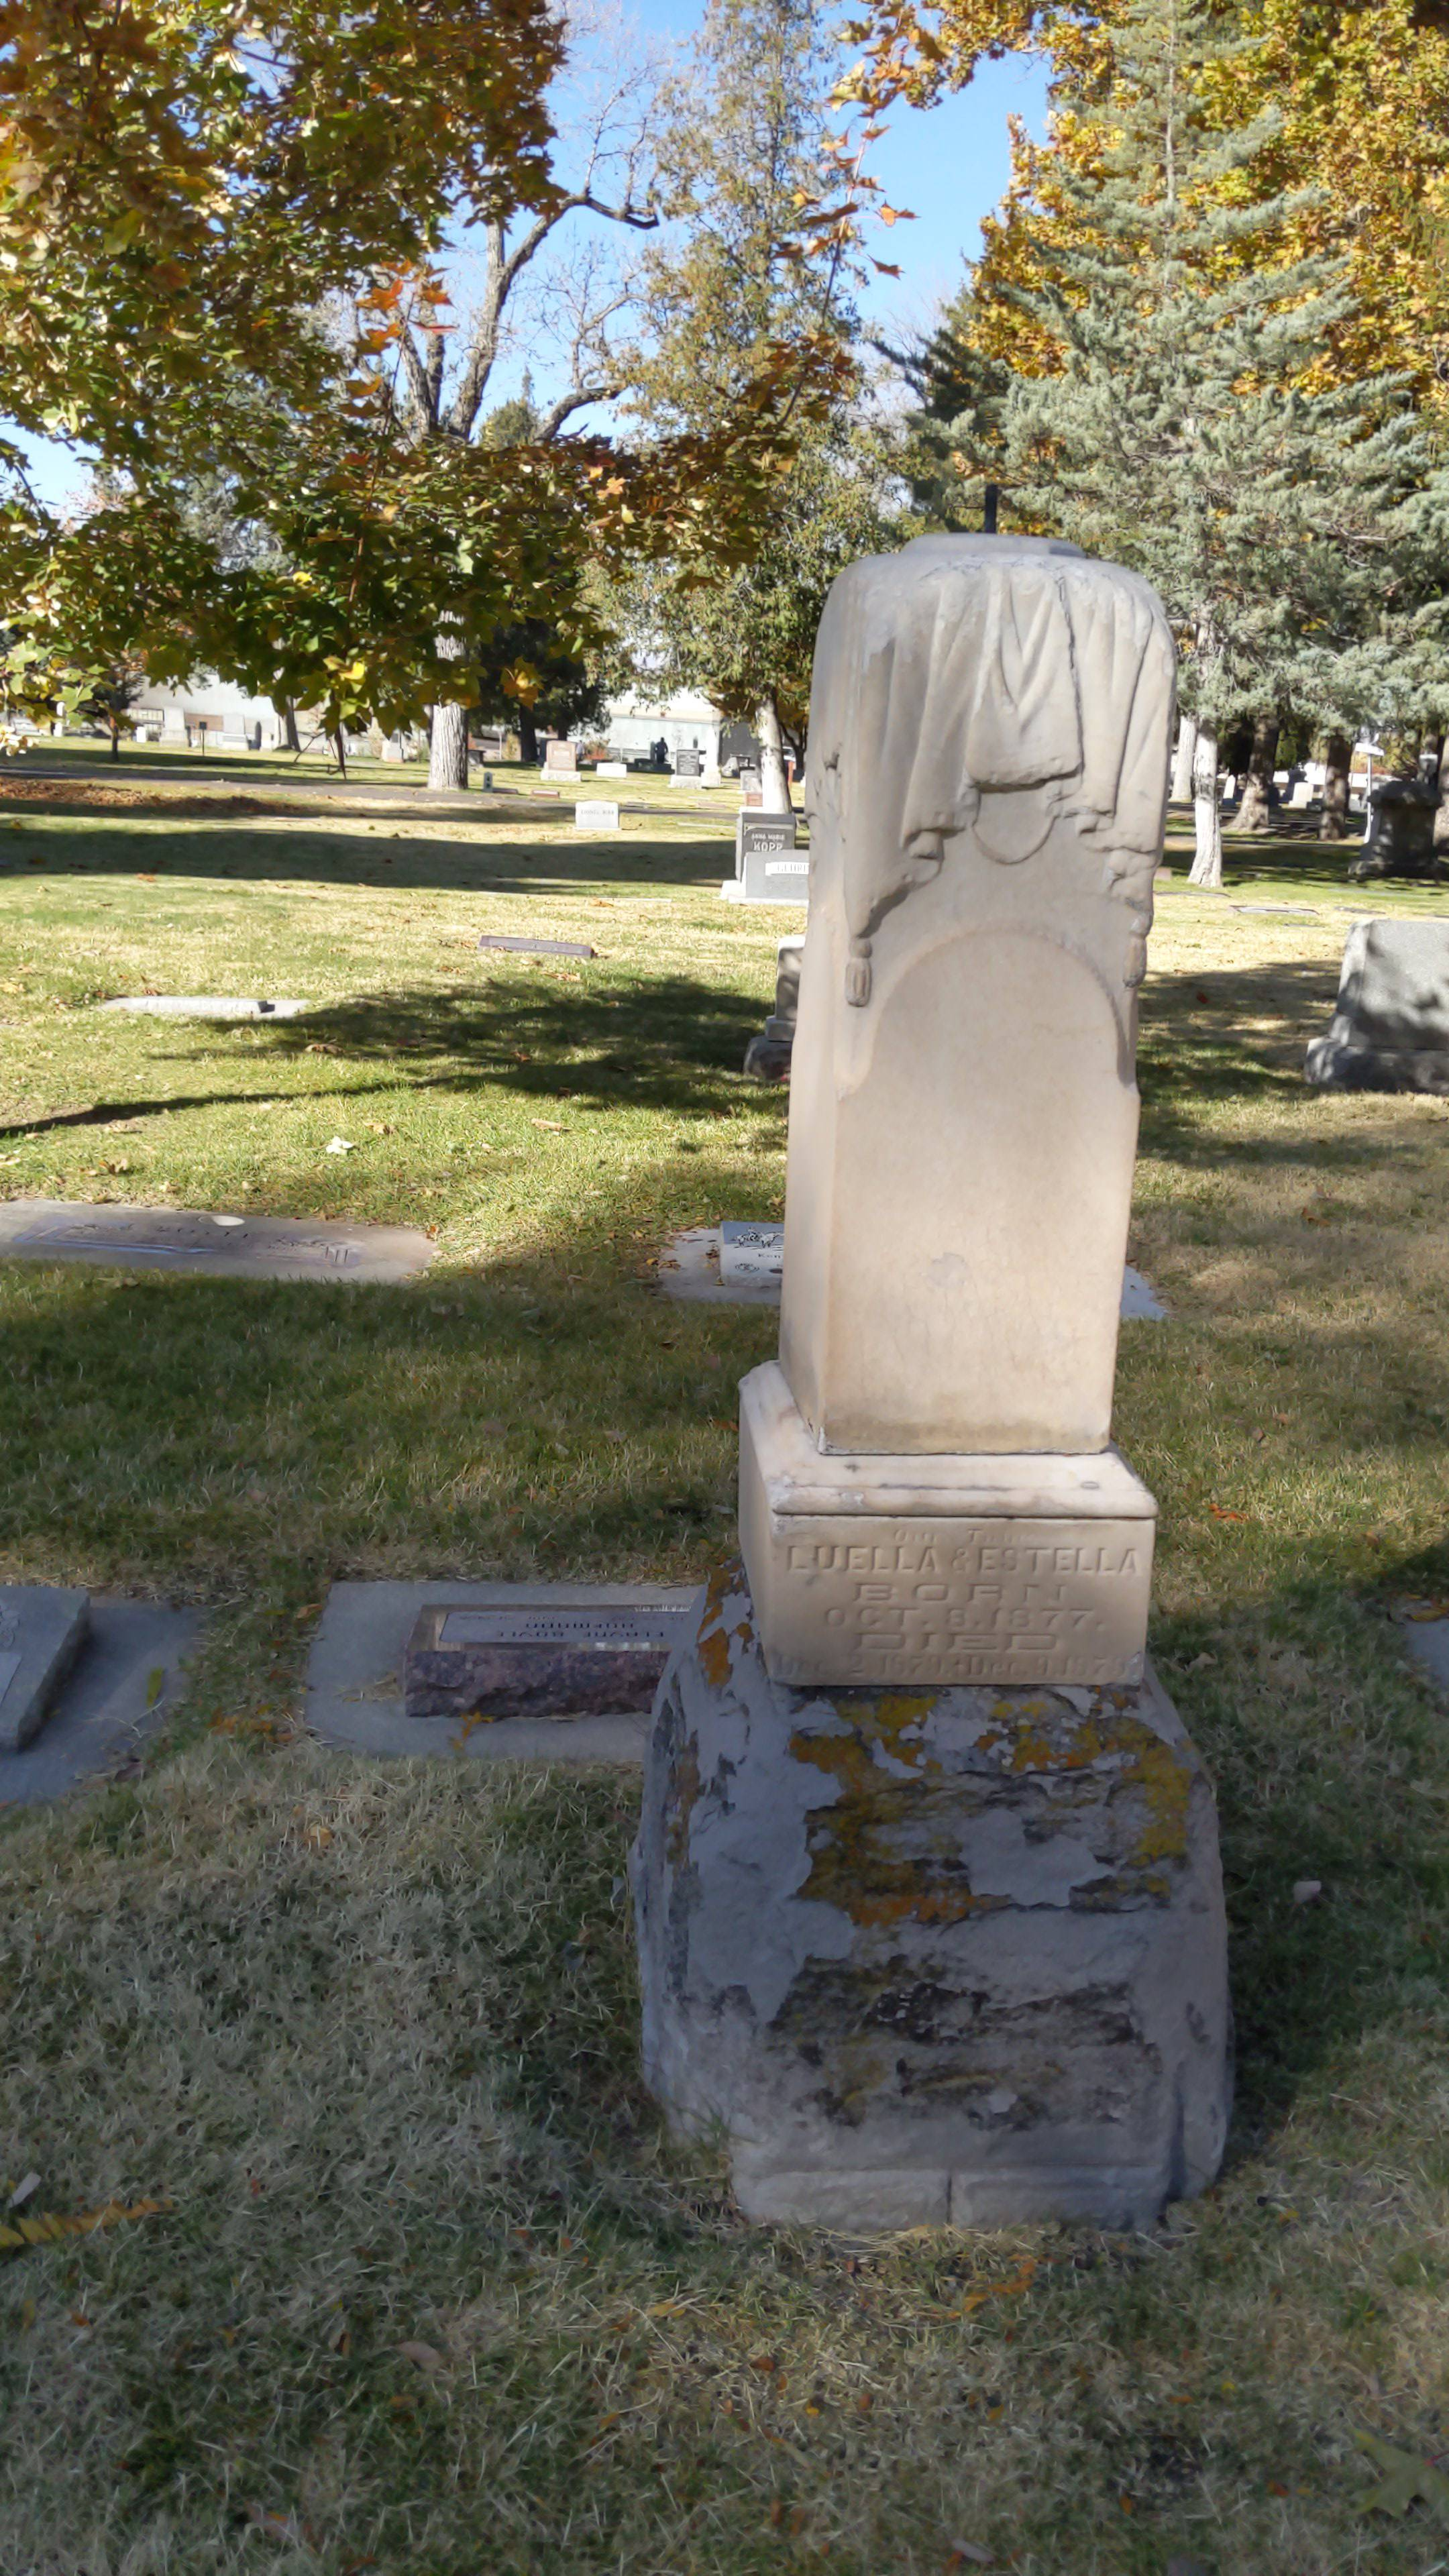obelisk: (754, 534, 1173, 1686)
